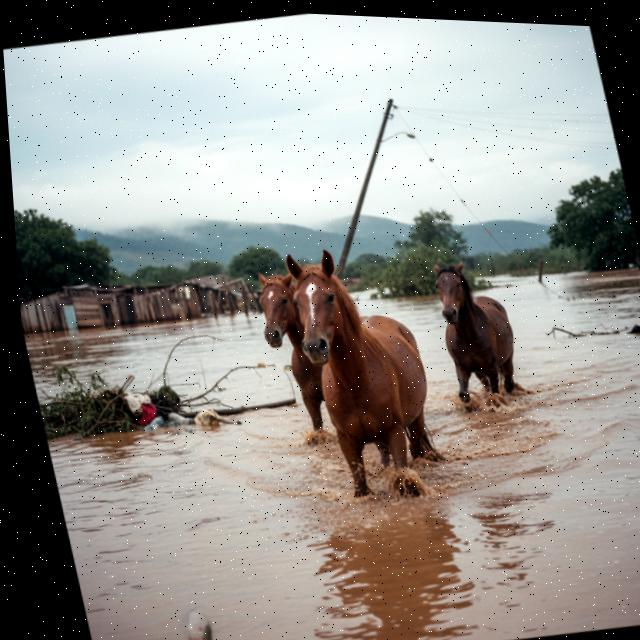horse: (276, 235, 465, 517), (238, 253, 351, 445), (415, 248, 540, 421)
